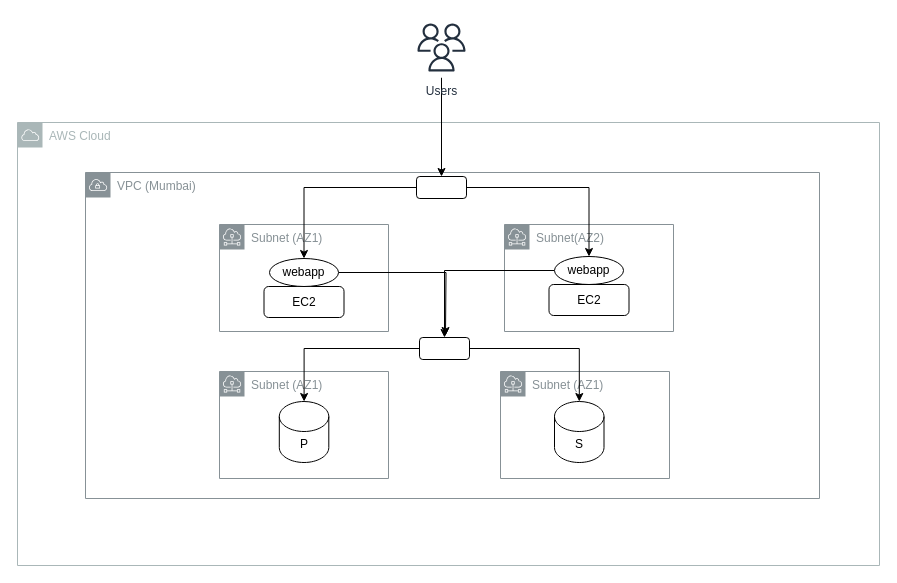
This 897x583 diagram has some shape labels left out. The centre of each missing label's shape, as x and y in pixels:
EP: (x=444, y=348)
LB: (x=441, y=187)
